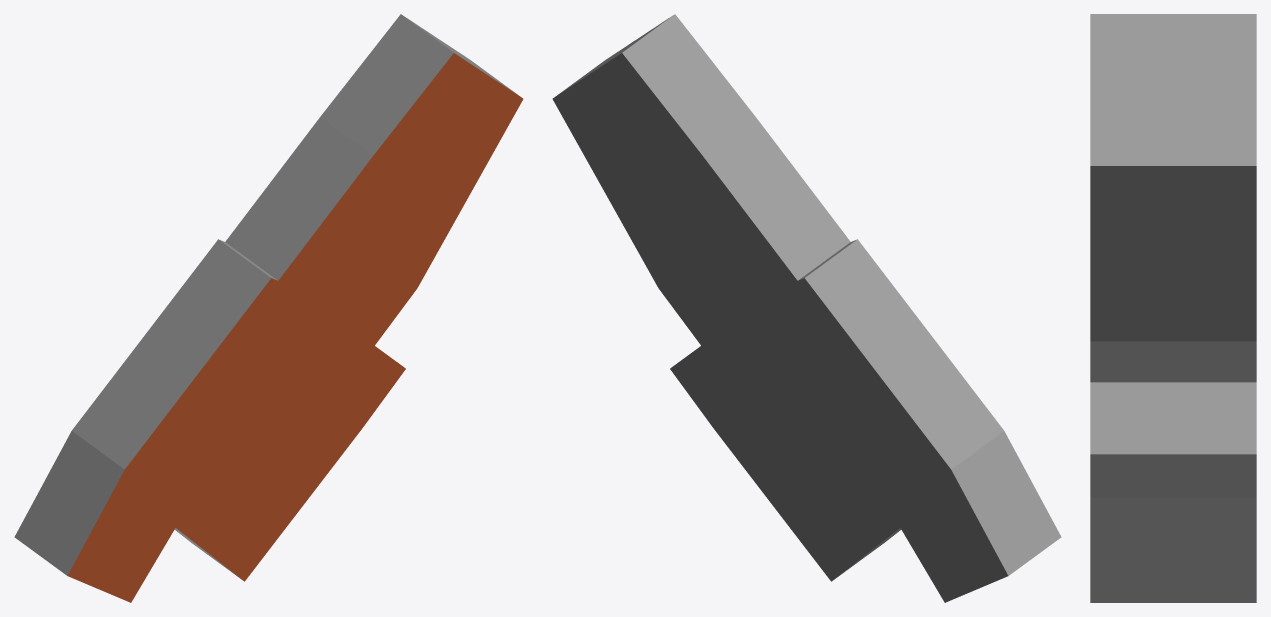
The model's file is construction_3590_assumed_A_Casa_h6m.obj.
The picture shows the model from 3 angles, left to right: view 1: azimuth 30°, elevation 25°; view 2: azimuth 150°, elevation 25°; view 3: azimuth 270°, elevation 25°; orthographic projection. The views are drawn at different scales.
Parts seen in each view (by area): view 1: construction_3590_assumed_A_Casa; view 2: construction_3590_assumed_A_Casa; view 3: construction_3590_assumed_A_Casa.
Part boxes in pixels (<box>): construction_3590_assumed_A_Casa: <box>14,14,523,602</box>; construction_3590_assumed_A_Casa: <box>552,14,1061,602</box>; construction_3590_assumed_A_Casa: <box>1090,14,1256,602</box>.
Size of the model in its own units: 29.76 by 29.79 by 6.
